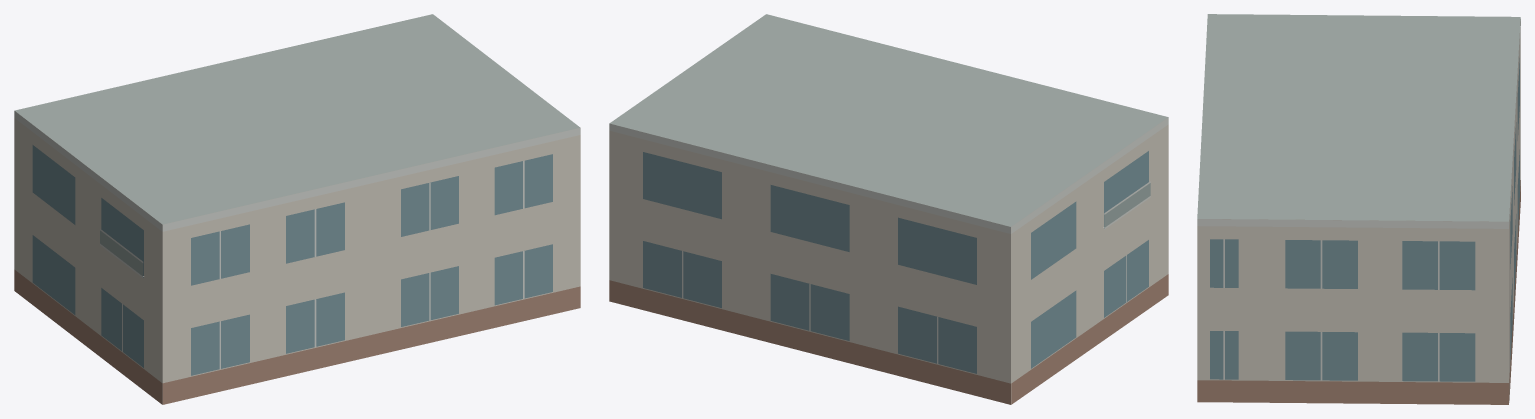
File: survey-upis-32872211.glb
The picture shows the model from 3 angles, left to right: view 1: azimuth 30°, elevation 25°; view 2: azimuth 150°, elevation 25°; view 3: azimuth 270°, elevation 25°; orthographic projection. The views are drawn at different scales.
Visible parts, largest first — view 1: survey-upis-32872211.tmp; view 2: survey-upis-32872211.tmp; view 3: survey-upis-32872211.tmp.
Boxes of the visible parts, left/top/right/bottom form: survey-upis-32872211.tmp: left=14, top=14, right=580, bottom=404; survey-upis-32872211.tmp: left=609, top=14, right=1168, bottom=404; survey-upis-32872211.tmp: left=1197, top=14, right=1520, bottom=404.
Bounding box in the file's own units: 14.84 × 6.1 × 9.77.
